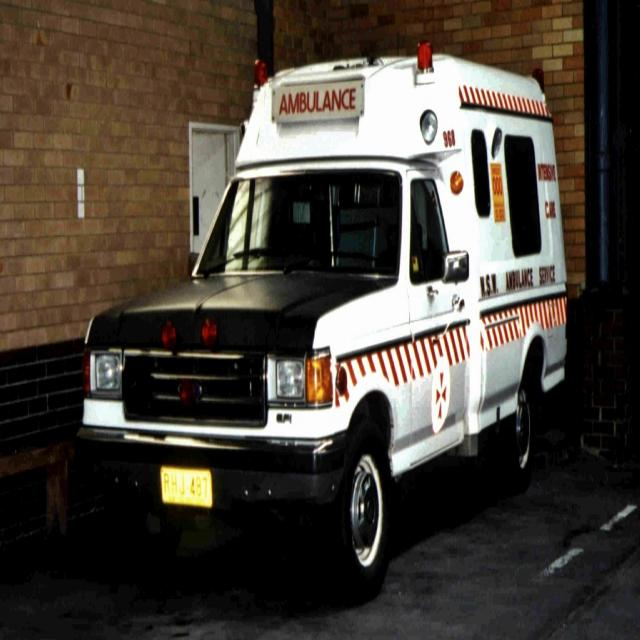Ambulance: (73, 37, 567, 595)
